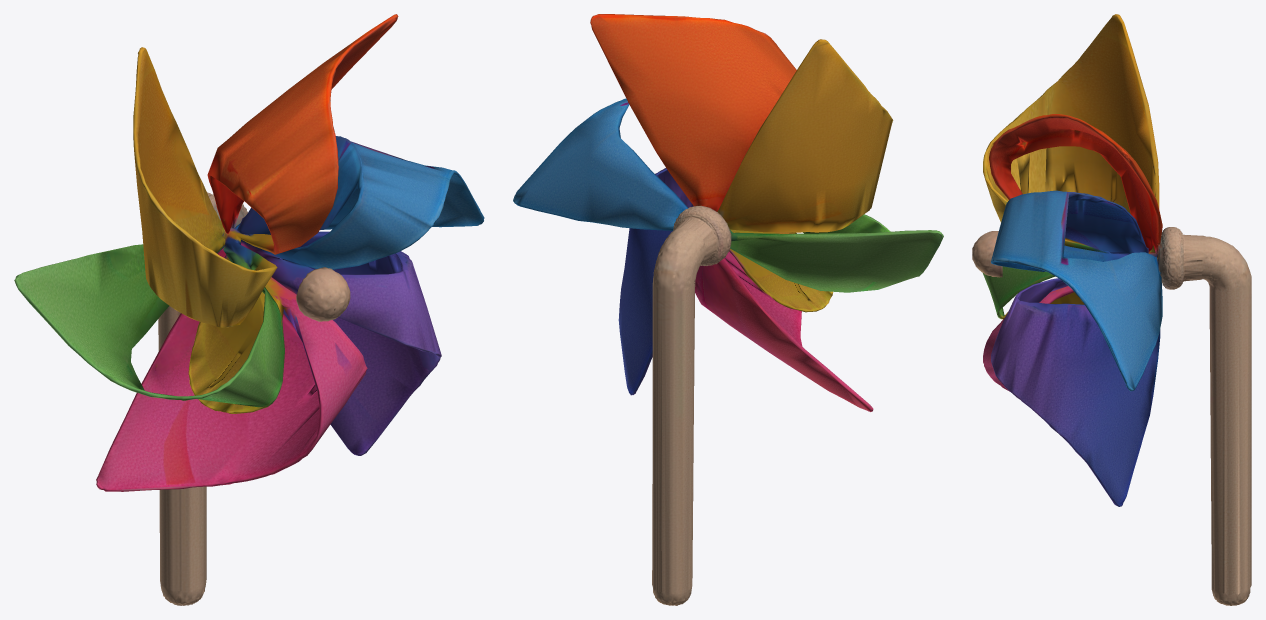
The model's file is mem_ac_windmill.fbx.
3 views of the same model, side by side, from view 1: azimuth 30°, elevation 25°; view 2: azimuth 150°, elevation 25°; view 3: azimuth 270°, elevation 25° (orthographic). The views are drawn at different scales.
Visible parts, largest first — view 1: tripo_node_bc5ffa76; view 2: tripo_node_bc5ffa76; view 3: tripo_node_bc5ffa76.
Boxes of the visible parts, x1,y1,x2,y2 form: tripo_node_bc5ffa76: (14,14,484,605); tripo_node_bc5ffa76: (513,14,943,605); tripo_node_bc5ffa76: (972,14,1251,605).
Size of the model in its own units: 0.8027 by 0.998 by 0.4668.
